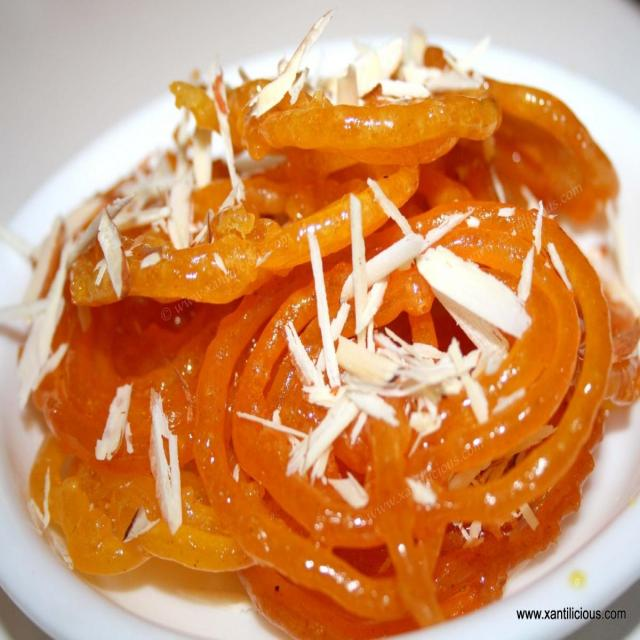jalebi: (48, 86, 617, 617)
